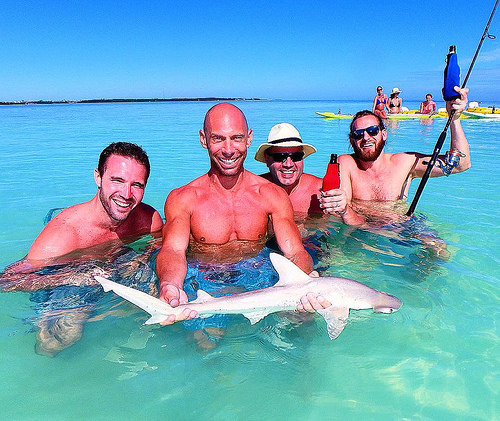shark: (80, 251, 413, 346)
